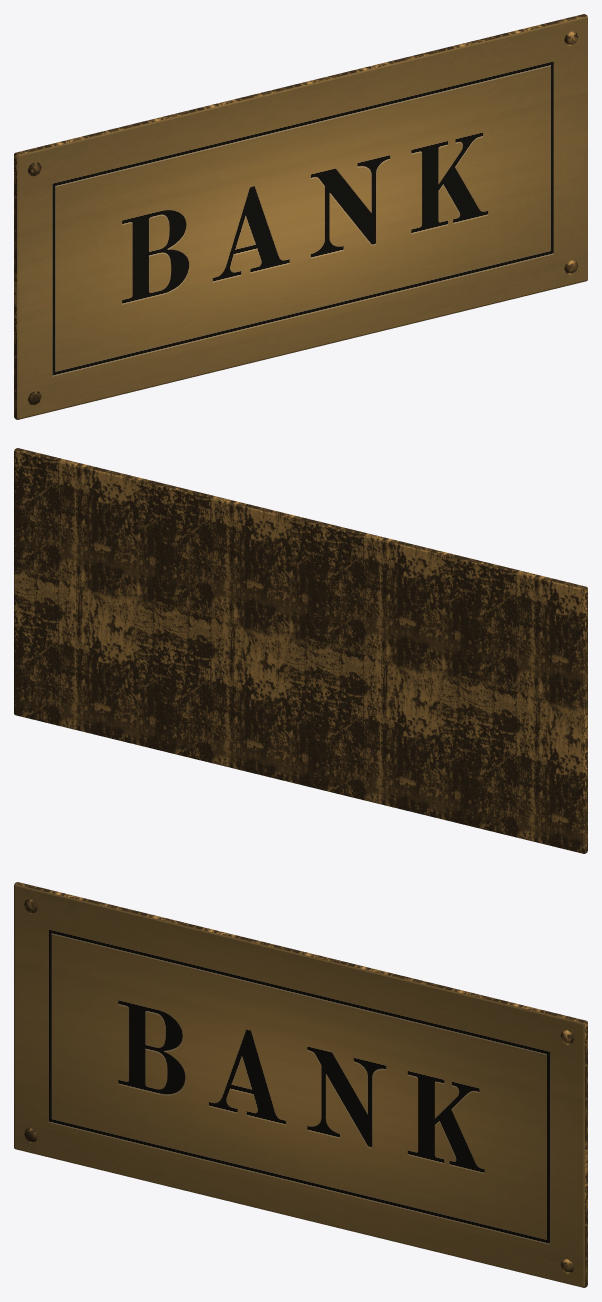
Rendered from bank-brass-plate.glb.
3 views of the same model, one above another, from view 1: azimuth 30°, elevation 25°; view 2: azimuth 150°, elevation 25°; view 3: azimuth 330°, elevation 25° (orthographic).
Parts seen in each view (by area): view 1: bank-brass-plate; view 2: bank-brass-plate; view 3: bank-brass-plate.
Boxes of the visible parts, <box> form: bank-brass-plate: <box>14,14,587,419</box>; bank-brass-plate: <box>14,448,587,853</box>; bank-brass-plate: <box>14,882,587,1287</box>.
Size of the model in its own units: 0.45 by 0.2 by 0.00757.
Materials: 2 (2 with a texture image).
